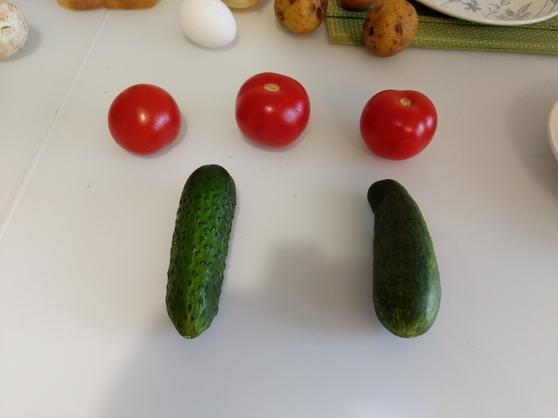champignon: (1, 6, 34, 61)
cucumber: (365, 181, 439, 340), (168, 168, 234, 337)
egg: (176, 1, 238, 52)
potato: (276, 1, 325, 38)
tomato: (360, 88, 438, 162), (238, 70, 313, 145), (109, 84, 182, 155), (359, 1, 422, 55)
